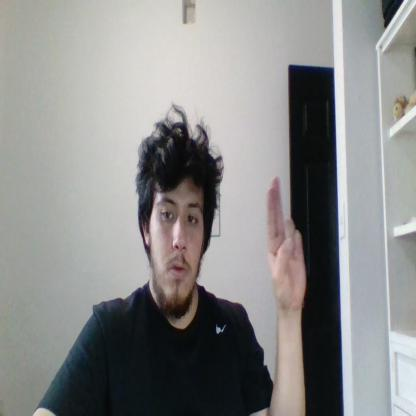U: (267, 177, 305, 306)
